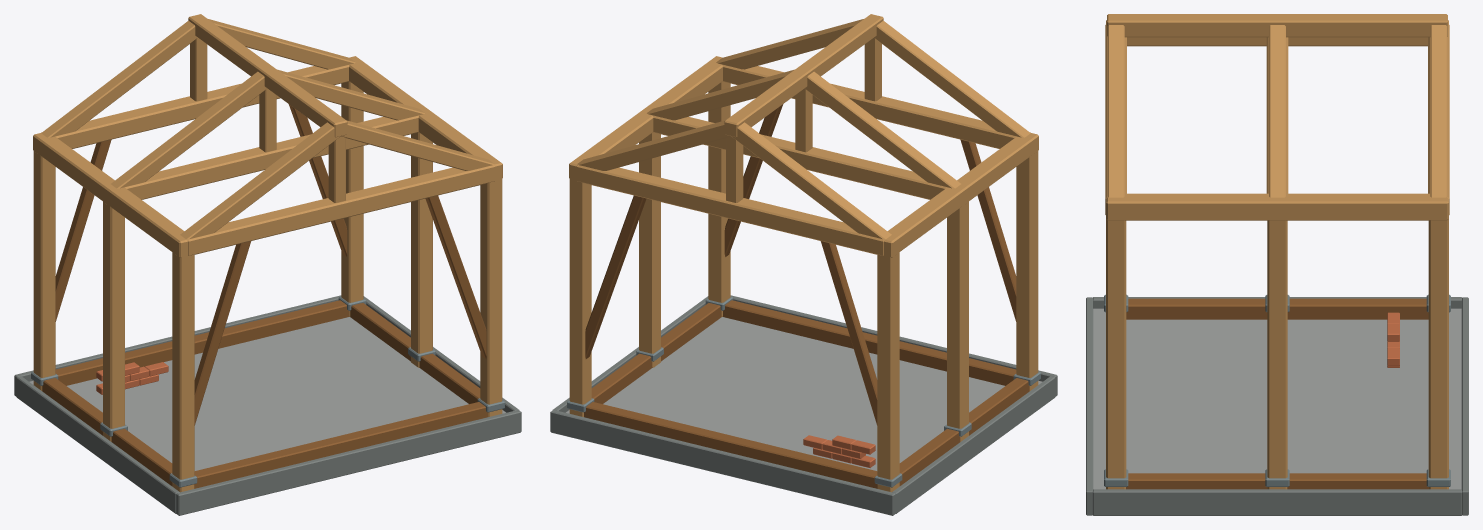
The model's file is LivestockChopFrame.glb.
The picture shows the model from 3 angles, left to right: view 1: azimuth 30°, elevation 25°; view 2: azimuth 150°, elevation 25°; view 3: azimuth 270°, elevation 25°; orthographic projection. The views are drawn at different scales.
Visible parts, largest first — view 1: LivestockBarnConstruction_StaticMesh; view 2: LivestockBarnConstruction_StaticMesh; view 3: LivestockBarnConstruction_StaticMesh.
Part boxes in pixels (x1=…): LivestockBarnConstruction_StaticMesh: x1=14, y1=14, x2=521, y2=515; LivestockBarnConstruction_StaticMesh: x1=550, y1=14, x2=1057, y2=515; LivestockBarnConstruction_StaticMesh: x1=1086, y1=14, x2=1468, y2=515.
Size of the model in its own units: 6.44 by 6.18 by 5.34.
